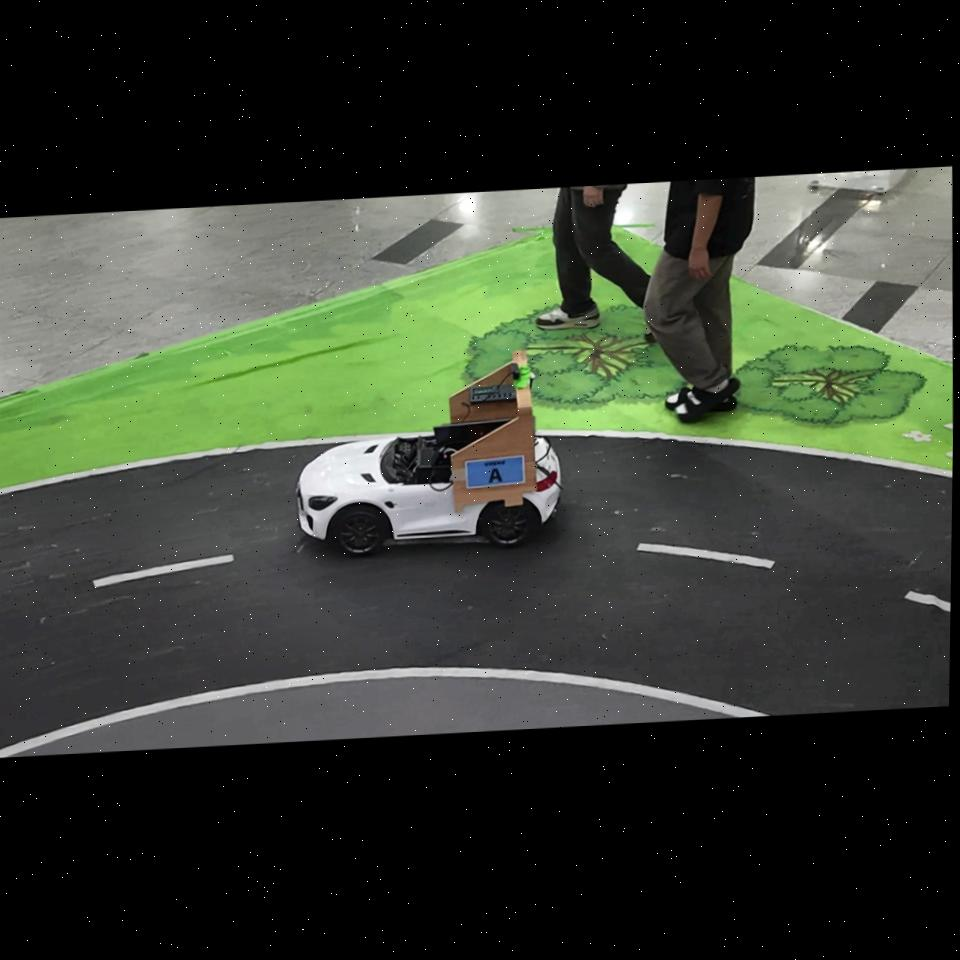broken_line: (93, 554, 234, 587), (637, 543, 775, 568), (904, 590, 951, 612)
